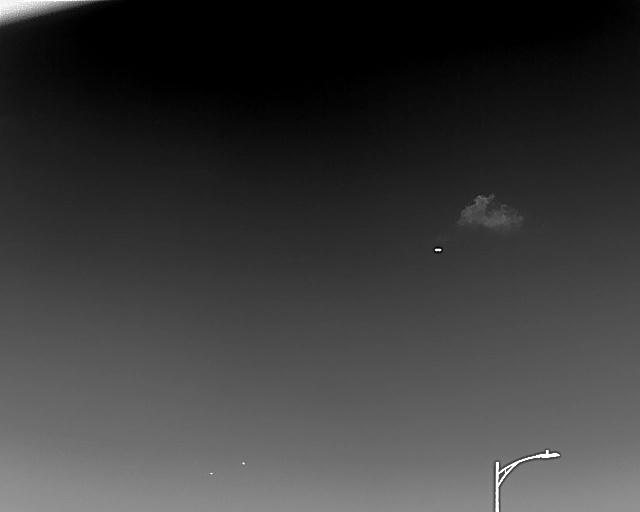fpv-drone: (433, 246, 442, 253)
